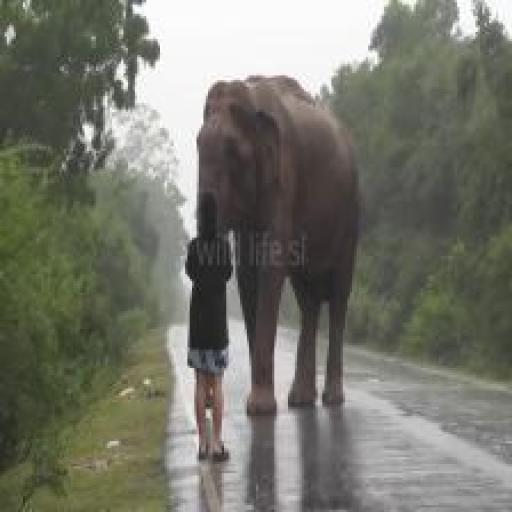Elephant: (183, 48, 376, 474)
